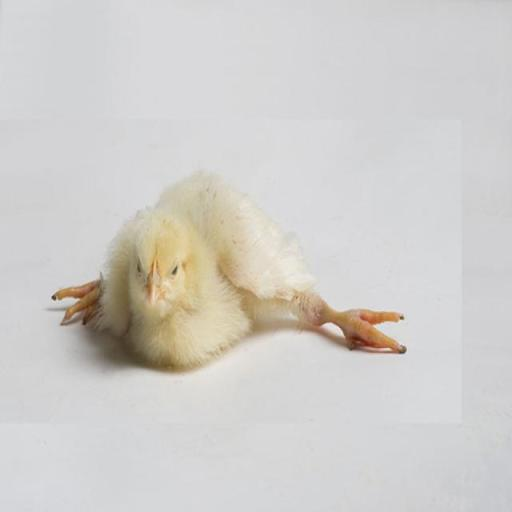healthy: (124, 233, 193, 309)
